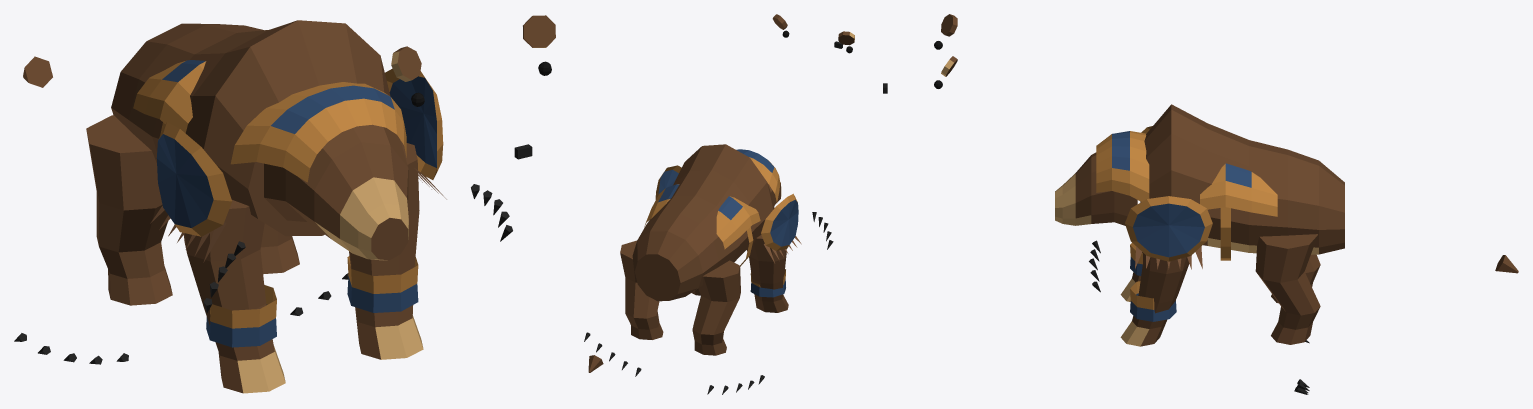
The model's file is Armored_War_Bear.glb.
The picture shows the model from 3 angles, left to right: view 1: azimuth 30°, elevation 25°; view 2: azimuth 150°, elevation 25°; view 3: azimuth 270°, elevation 25°; orthographic projection. The views are drawn at different scales.
Visible parts, largest first — view 1: Bear_Torso, Bear_Head, Bear_Leg_Hind_R, Armor_Gorget, Bear_Leg_Front_R, Armor_Pauldron_R, Bear_Leg_Front_L, Armor_Pauldron_L, Armor_Backplate, Armor_Bracer_R, Armor_Bracer_L, Bear_Leg_Hind_L (+4 smaller); view 2: Bear_Torso, Bear_Leg_Hind_R, Bear_Leg_Hind_L, Armor_Backplate, Bear_Leg_Front_R, Armor_Pauldron_R, Armor_Gorget, Armor_Pauldron_L, Armor_Bracer_R; view 3: Bear_Torso, Bear_Leg_Hind_L, Armor_Pauldron_L, Bear_Head, Armor_Backplate, Armor_Gorget, Bear_Leg_Front_L, Armor_Bracer_L.
Part boxes in pixels (<box>): Bear_Torso: <box>111,20,390,236</box>; Bear_Head: <box>264,124,408,260</box>; Bear_Leg_Hind_R: <box>86,115,172,305</box>; Armor_Gorget: <box>230,82,406,182</box>; Bear_Leg_Front_R: <box>183,200,285,393</box>; Armor_Pauldron_R: <box>156,122,231,236</box>; Bear_Leg_Front_L: <box>349,141,423,359</box>; Armor_Pauldron_L: <box>385,68,443,179</box>; Armor_Backplate: <box>133,60,206,134</box>; Armor_Bracer_R: <box>206,285,276,347</box>; Armor_Bracer_L: <box>347,256,418,312</box>; Bear_Leg_Hind_L: <box>260,223,299,274</box>; Bear_Torso: <box>632,144,774,301</box>; Bear_Leg_Hind_R: <box>692,260,740,355</box>; Bear_Leg_Hind_L: <box>620,240,663,339</box>; Armor_Backplate: <box>644,184,760,266</box>; Bear_Leg_Front_R: <box>747,235,788,312</box>; Armor_Pauldron_R: <box>761,193,798,250</box>; Armor_Gorget: <box>736,149,780,202</box>; Armor_Pauldron_L: <box>655,165,681,199</box>; Armor_Bracer_R: <box>750,269,785,297</box>; Bear_Torso: <box>1140,104,1344,254</box>; Bear_Leg_Hind_L: <box>1255,234,1320,344</box>; Armor_Pauldron_L: <box>1125,196,1212,261</box>; Bear_Head: <box>1055,152,1137,225</box>; Armor_Backplate: <box>1200,163,1277,260</box>; Armor_Gorget: <box>1096,131,1149,201</box>; Bear_Leg_Front_L: <box>1120,253,1189,346</box>; Armor_Bracer_L: <box>1130,281,1176,321</box>.
Bounding box in the file's own units: 2.02 × 2.81 × 4.91.
